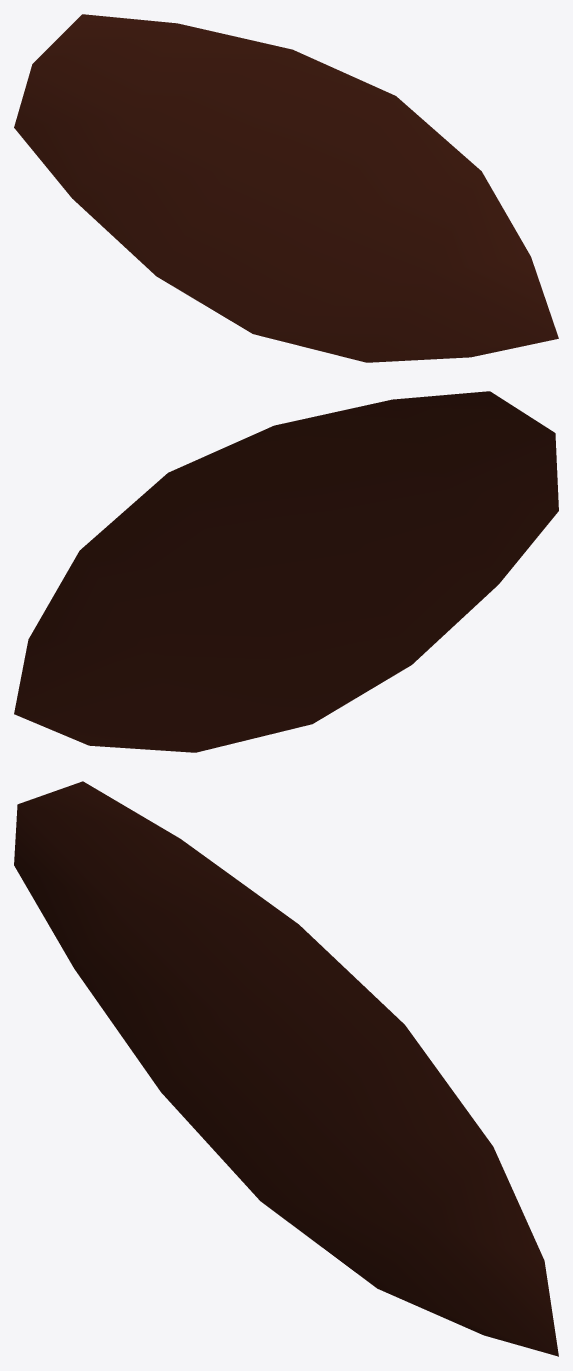
Rendered from hen_feather_flight_tertiary_028.obj.
3 renders of one model, top to bottom at view 1: azimuth 30°, elevation 25°; view 2: azimuth 150°, elevation 25°; view 3: azimuth 330°, elevation 25°, orthographic. The views are drawn at different scales.
Visible parts, largest first — view 1: feather_flight_tertiary_028; view 2: feather_flight_tertiary_028; view 3: feather_flight_tertiary_028.
Boxes of the visible parts, x1,y1,x2,y2 form: feather_flight_tertiary_028: [14, 14, 558, 362]; feather_flight_tertiary_028: [14, 391, 558, 752]; feather_flight_tertiary_028: [14, 781, 558, 1356].
Size of the model in its own units: 0.0226 by 0.0177 by 0.000804.
